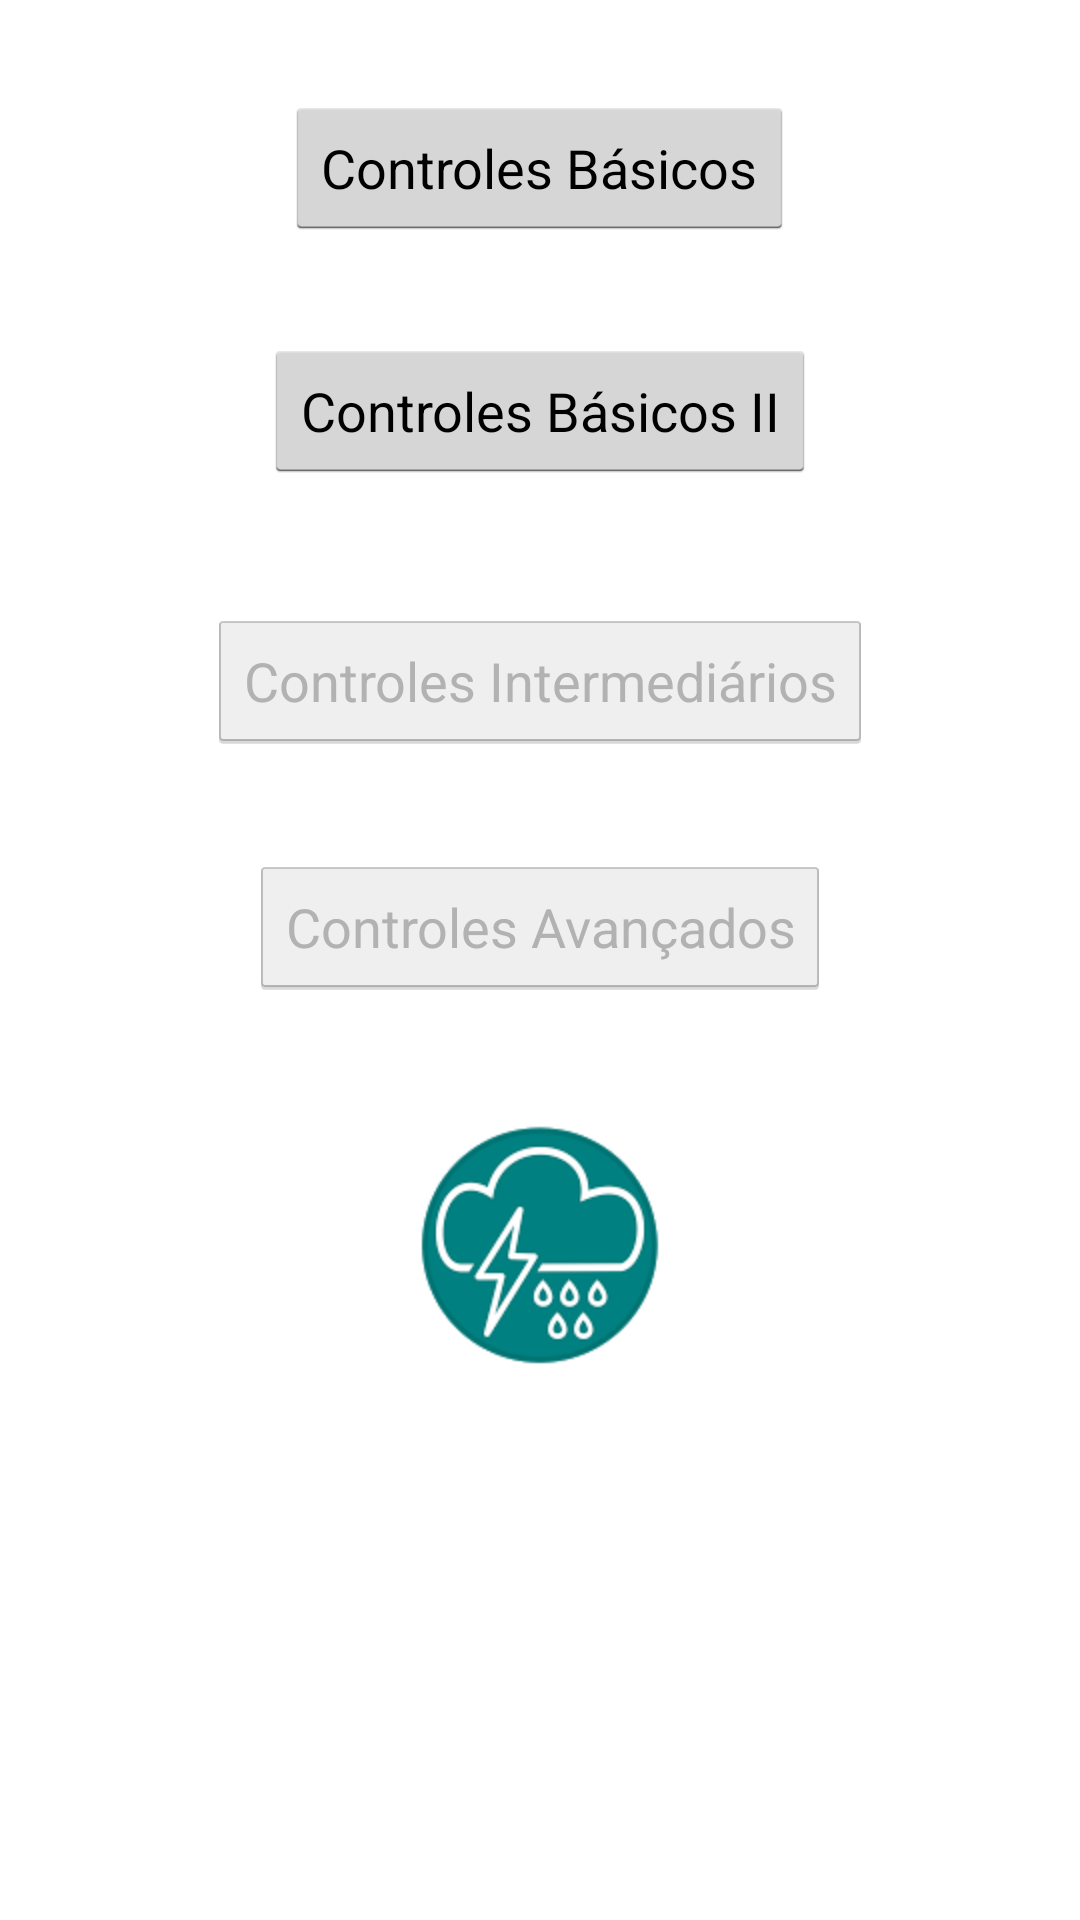

Screen size 1080x1920. Icon name, then its box in pixels as [x1=x1, y1=y1, x2=x2, y2=y2]:
electr: [x1=421, y1=1126, x2=659, y2=1364]
